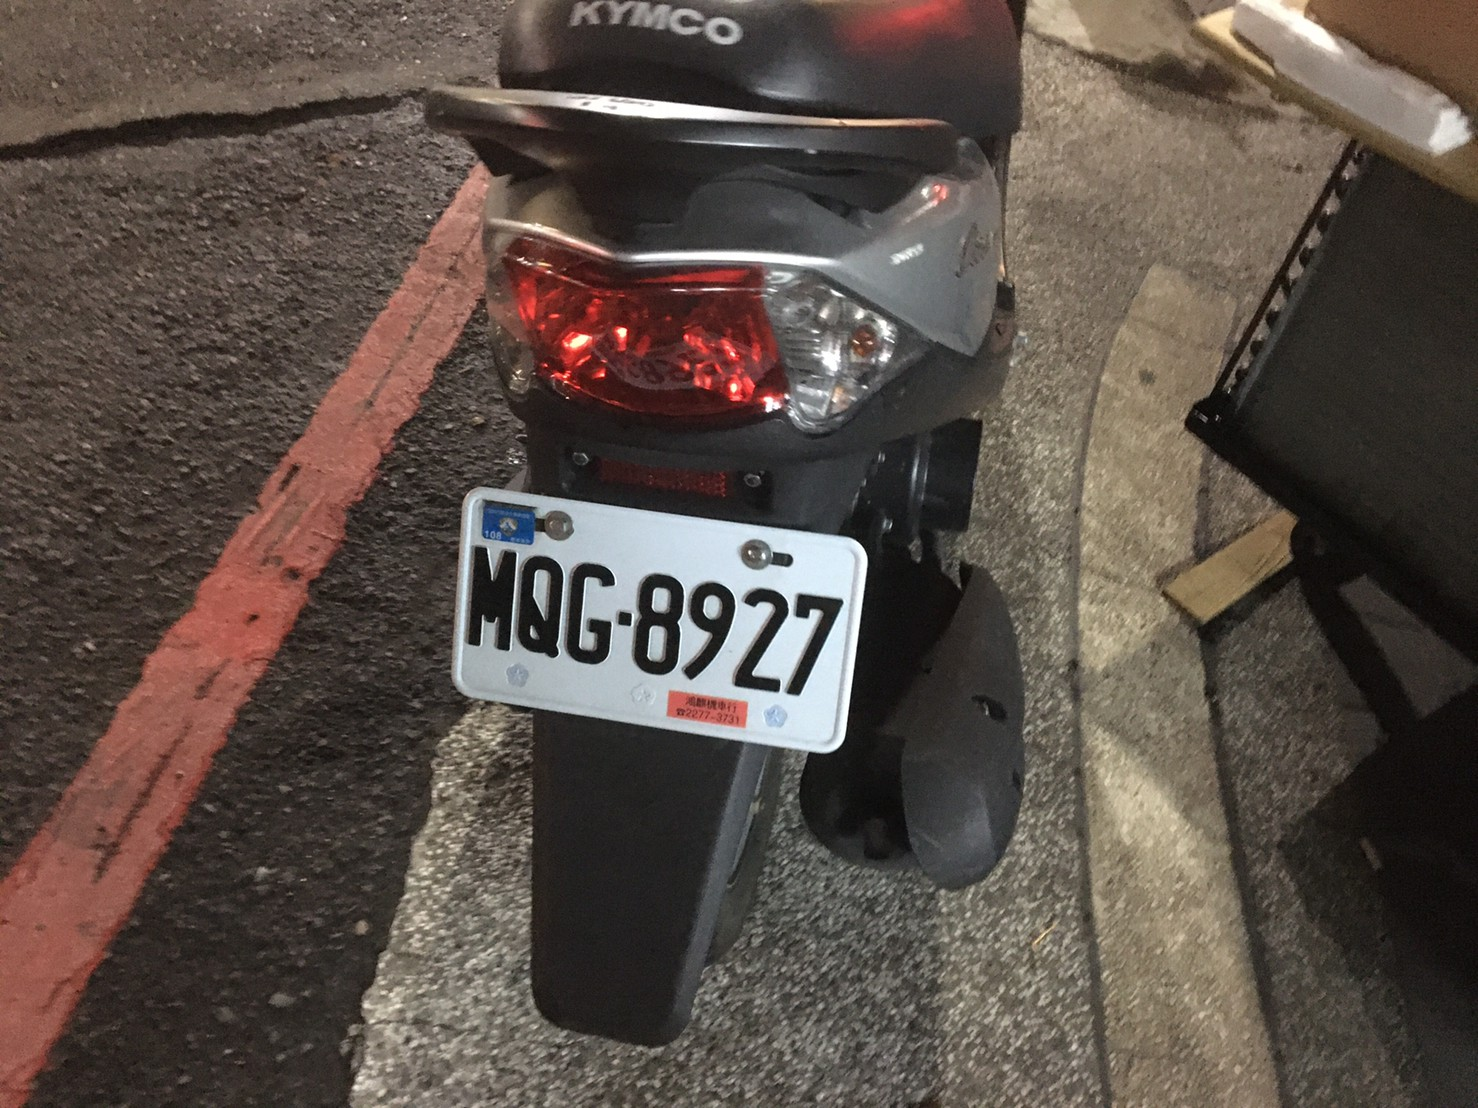LP: (429, 480, 888, 749)
